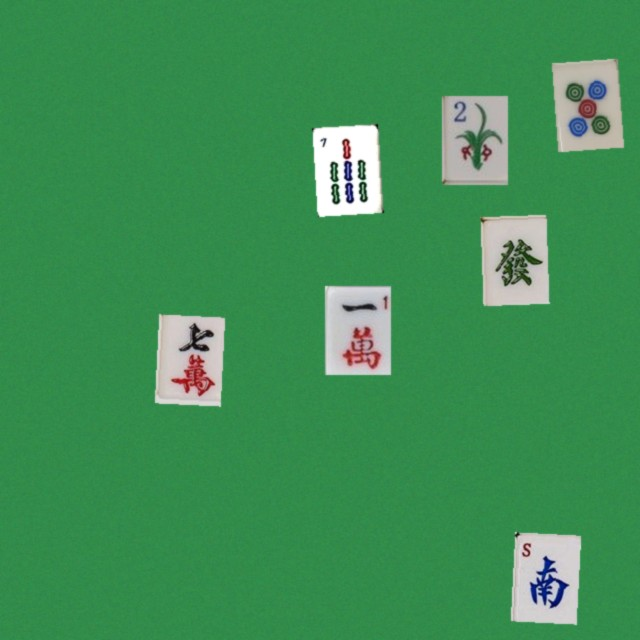tile: (551, 58, 617, 147), (324, 285, 390, 374), (154, 314, 220, 403), (312, 124, 378, 213), (480, 214, 546, 303), (510, 532, 576, 621), (441, 95, 507, 184)
